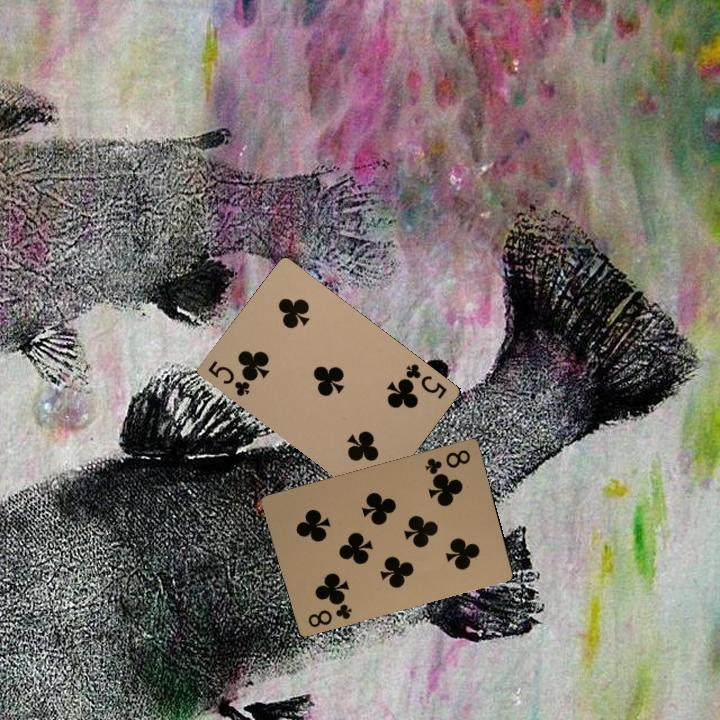5c: (400, 360, 450, 402), (204, 357, 254, 399)
8c: (304, 595, 354, 630), (421, 445, 473, 478)
